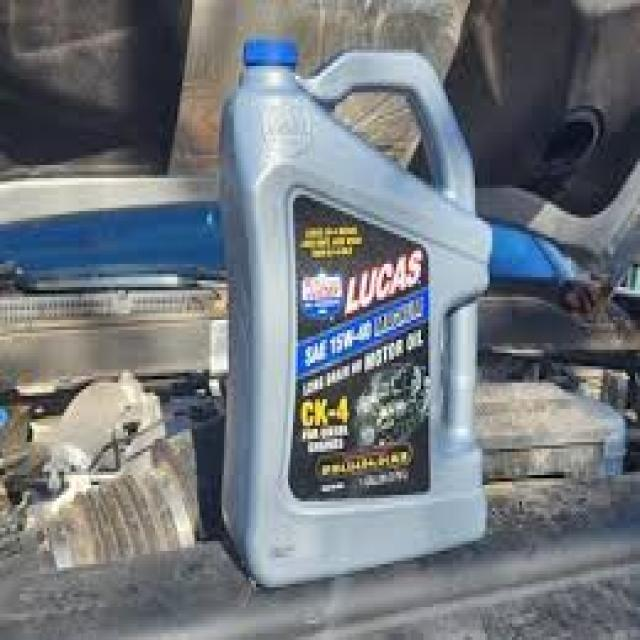motor_oil: (215, 36, 492, 584)
